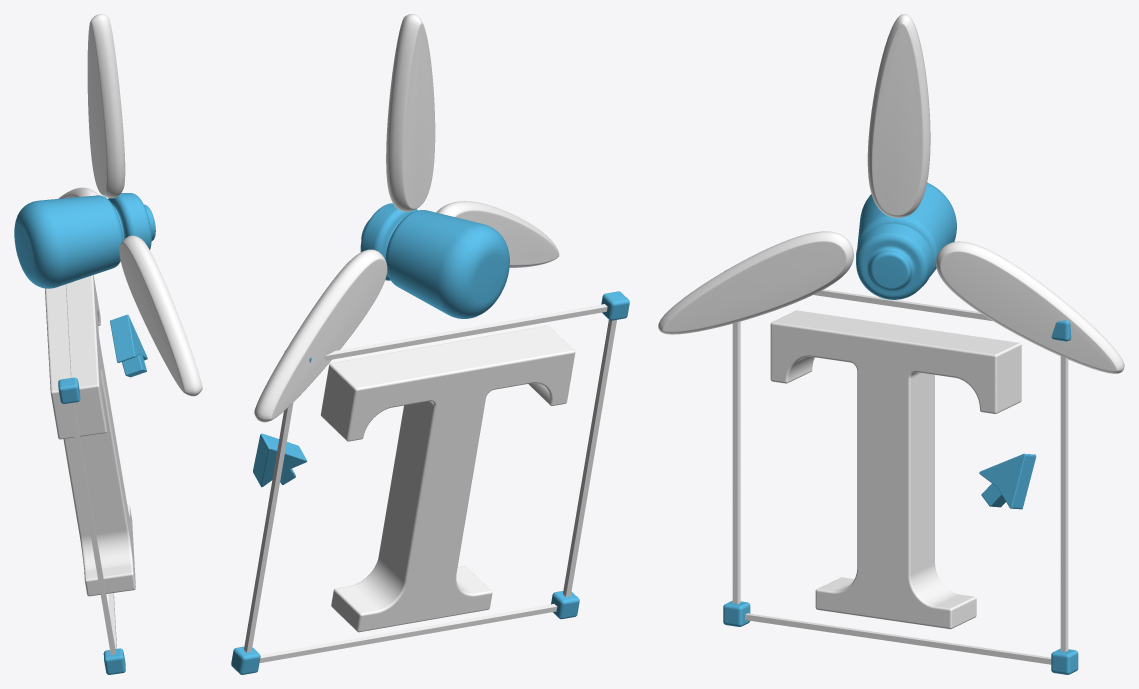
The model's file is design-technology-en-arts.glb.
3 renders of one model, left to right at view 1: azimuth 30°, elevation 25°; view 2: azimuth 150°, elevation 25°; view 3: azimuth 270°, elevation 25°, orthographic. The views are drawn at different scales.
Visible parts, largest first — view 1: letter/glass, windmill-top/color, wing/glass.002, wing/glass.001, select-frame/glass, mouse/color, select-cube/color.003, select-cube/color.002; view 2: letter/glass, windmill-top/color, select-frame/glass, wing/glass, wing/glass.002, wing/glass.001, mouse/color, select-cube/color.003, select-cube/color, select-cube/color.002; view 3: letter/glass, wing/glass.001, wing/glass.002, wing/glass, select-frame/glass, windmill-top/color, mouse/color.
Part boxes in pixels (bbox=[...]): letter/glass: bbox=[45, 275, 135, 596]; windmill-top/color: bbox=[14, 193, 155, 288]; wing/glass.002: bbox=[87, 14, 125, 198]; wing/glass.001: bbox=[119, 235, 202, 396]; select-frame/glass: bbox=[60, 284, 116, 654]; mouse/color: bbox=[110, 314, 147, 377]; select-cube/color.003: bbox=[58, 377, 80, 403]; select-cube/color.002: bbox=[103, 648, 125, 674]; letter/glass: bbox=[320, 325, 575, 632]; windmill-top/color: bbox=[360, 203, 509, 318]; select-frame/glass: bbox=[244, 304, 616, 663]; wing/glass: bbox=[254, 249, 387, 422]; wing/glass.002: bbox=[386, 14, 435, 211]; wing/glass.001: bbox=[436, 201, 559, 267]; mouse/color: bbox=[253, 433, 307, 487]; select-cube/color.003: bbox=[601, 291, 629, 320]; select-cube/color: bbox=[231, 646, 260, 674]; select-cube/color.002: bbox=[551, 591, 579, 619]; letter/glass: bbox=[770, 310, 1021, 629]; wing/glass.001: bbox=[658, 231, 853, 334]; wing/glass.002: bbox=[867, 14, 930, 217]; wing/glass: bbox=[936, 241, 1124, 373]; select-frame/glass: bbox=[732, 289, 1068, 664]; windmill-top/color: bbox=[856, 182, 956, 299]; mouse/color: bbox=[979, 453, 1036, 509].
Size of the model in its own units: 1.55 by 4.03 by 2.65.
